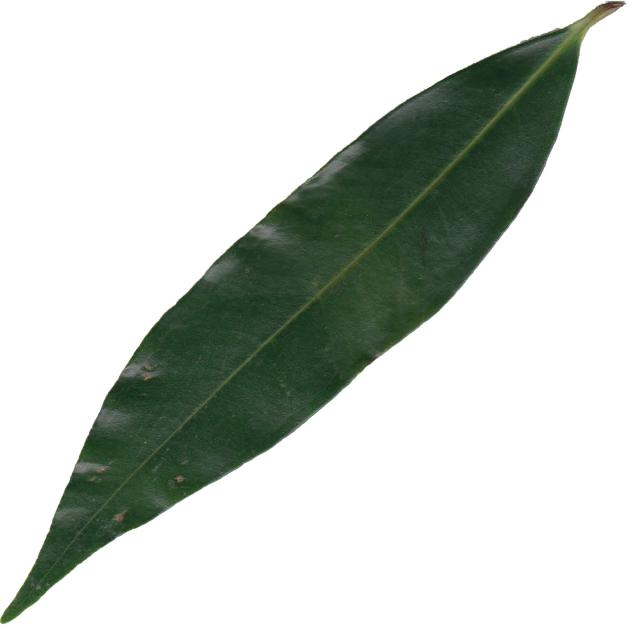Medicinal-Rose Apple: (0, 0, 624, 640)
